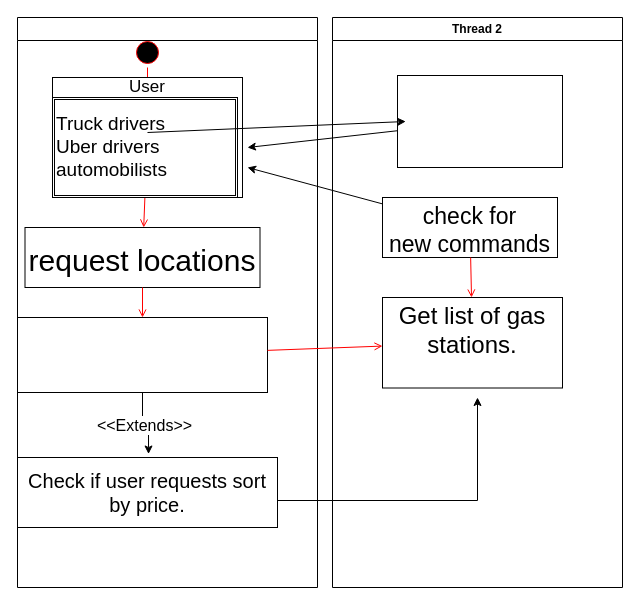
Image size: 640x605. Some labels were removed from this diagram. The shapes that lost their labels are listed below. From the top down, each one's box as (x1, y1, x2, y2) in pixels, then its label:
(396, 74, 562, 168): User sorts/adds to new list
(16, 16, 318, 588): Thread 1
(16, 316, 268, 392): Check if user requests sort by proximity.
